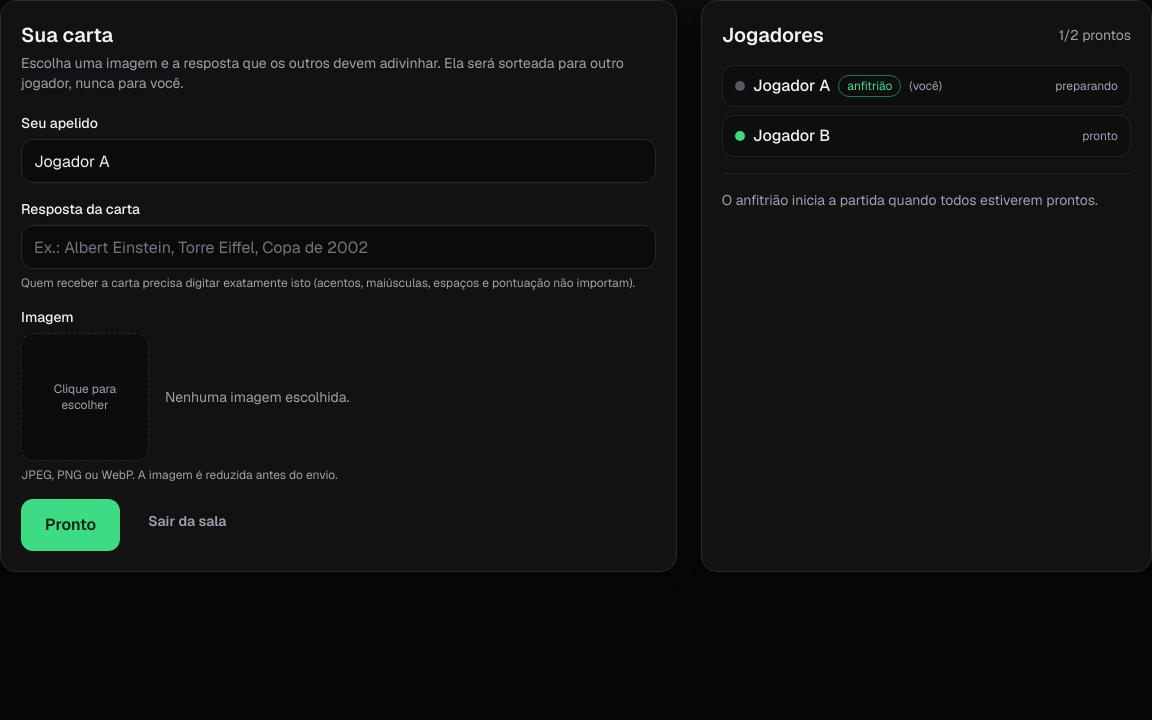
Test case: Lobby › exige imagem antes de marcar pronto
Type "Torre Eiffel" into the field labelled "Resposta da carta".
click(338, 247); type("Torre Eiffel")  # box x1=21 y1=225 x2=656 y2=269
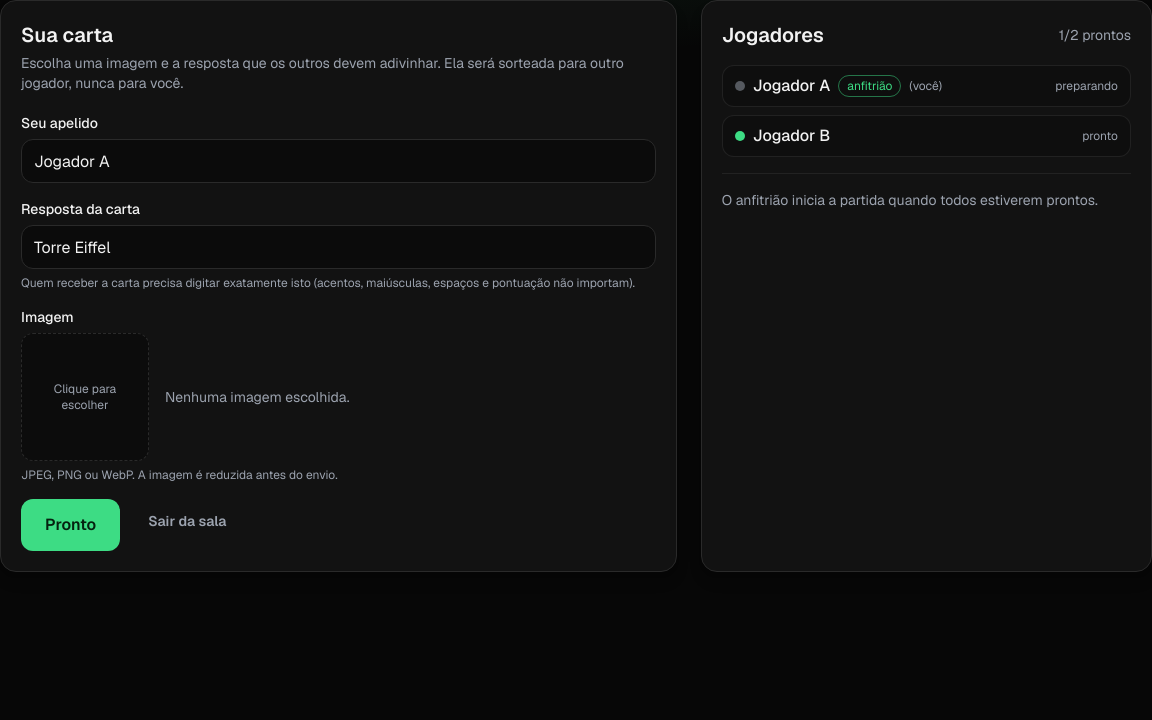
Click the button "Pronto".
click(71, 525)  # box x1=21 y1=499 x2=120 y2=551
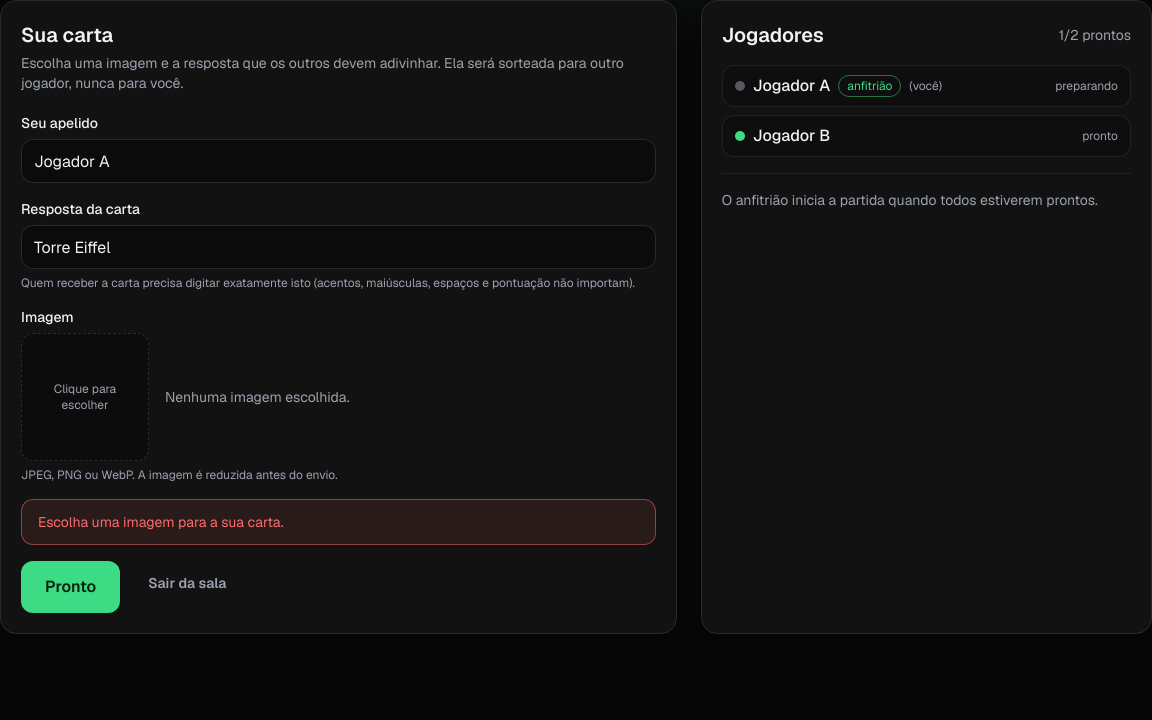
Now the message shows "imagem", box x1=38 y1=513 x2=284 y2=531
